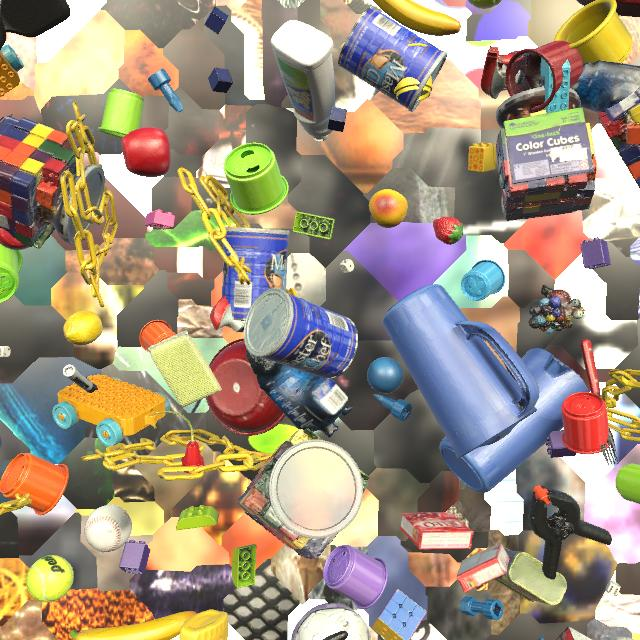ycb_002_master_chef_can: (338, 6, 448, 112), (244, 288, 358, 379), (222, 227, 289, 321)
ycb_006_mustard_bottle: (179, 609, 228, 640)
ycb_008_pudding_box: (556, 627, 592, 640)
ycb_009_gelatin_box: (400, 512, 474, 549), (456, 543, 509, 593)
ycb_010_potted_meat_can: (493, 548, 567, 606)
ycb_011_banana: (70, 611, 197, 640), (373, 0, 461, 36)
ycb_012_strawberry: (433, 217, 463, 245)
ycb_013_apple: (121, 127, 171, 177), (0, 228, 29, 250)
ycb_014_lemon: (63, 311, 103, 345)
ycb_015_peach: (369, 189, 408, 228)
